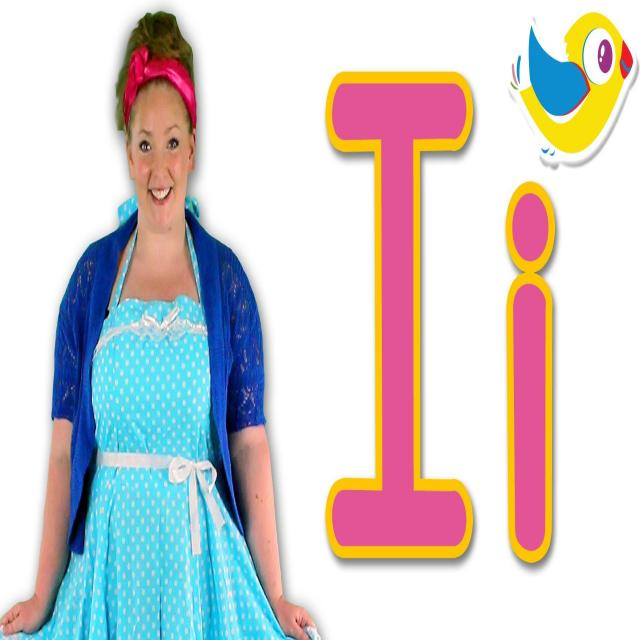I: (316, 25, 488, 588)
